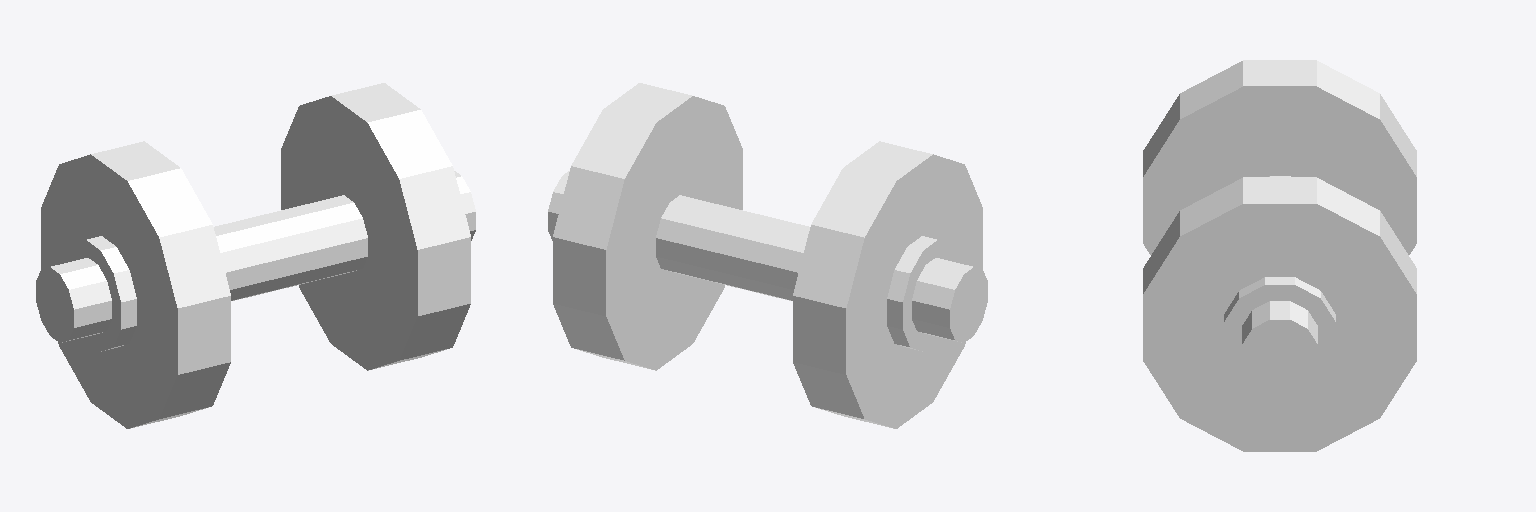
Rendered from dumbbell.obj.
3 views of the same model, side by side, from view 1: azimuth 30°, elevation 25°; view 2: azimuth 150°, elevation 25°; view 3: azimuth 270°, elevation 25° (orthographic).
Visible parts, largest first — view 1: dumbbell; view 2: dumbbell; view 3: dumbbell.
Part boxes in pixels (x1,y1,x2,y2): dumbbell: (36,83,475,428); dumbbell: (548,83,987,428); dumbbell: (1143,60,1416,451).
Size of the model in its own units: 74.9 by 44.16 by 44.16.